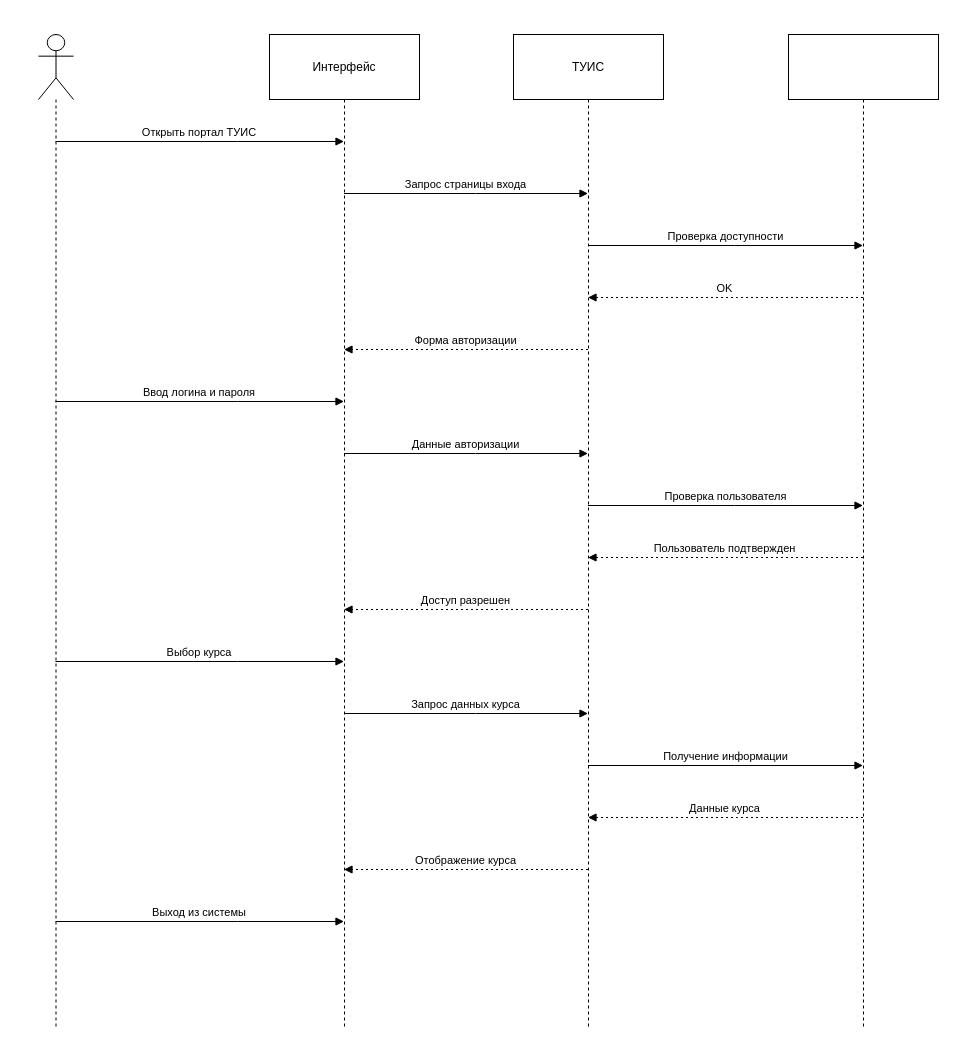
The diagram is 956 pixels wide and 1044 high, and some of its shapes have lost their labels. The box of each missing label's shape, as (x1, y1, x2, y2) in pixels:
БазаДанных: (788, 34, 938, 1026)
Пользователь: (38, 34, 74, 1026)
